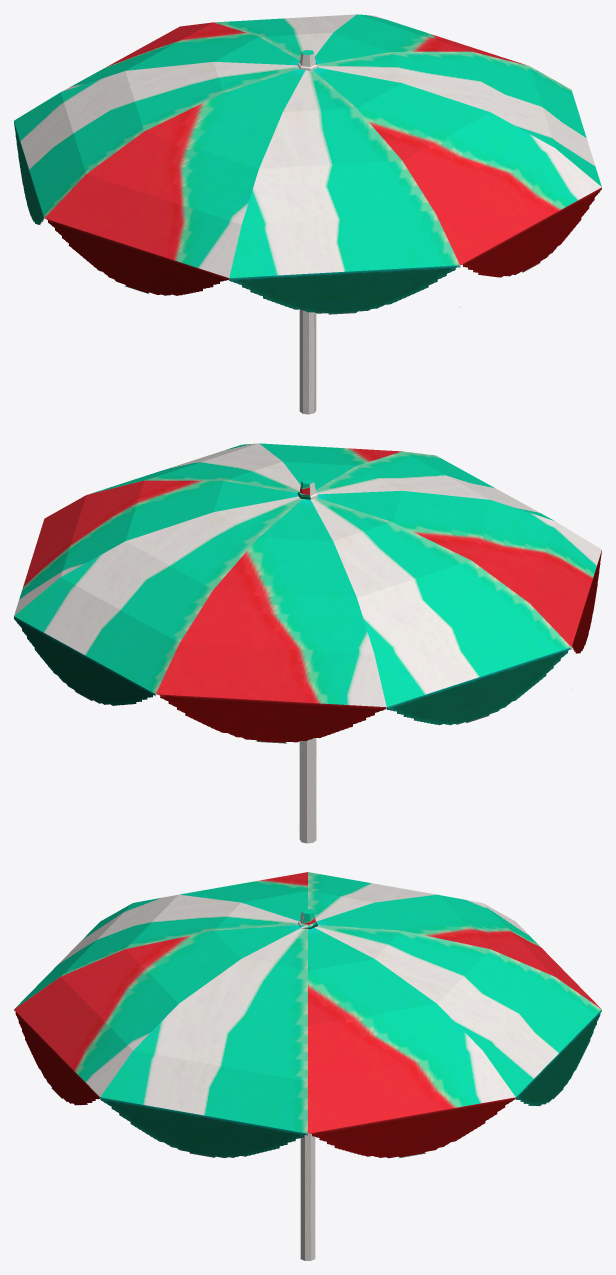
The model's file is BeachParasol.dae.
3 renders of one model, top to bottom at view 1: azimuth 30°, elevation 25°; view 2: azimuth 150°, elevation 25°; view 3: azimuth 270°, elevation 25°, orthographic. The views are drawn at different scales.
Parts seen in each view (by area): view 1: m0; view 2: m0; view 3: m0.
Boxes of the visible parts, x1=… form: m0: x1=14, y1=14, x2=601, y2=414; m0: x1=14, y1=443, x2=601, y2=843; m0: x1=14, y1=872, x2=601, y2=1260.
Size of the model in its own units: 1410 by 916 by 1410.
Materials: 1 (1 with a texture image).
